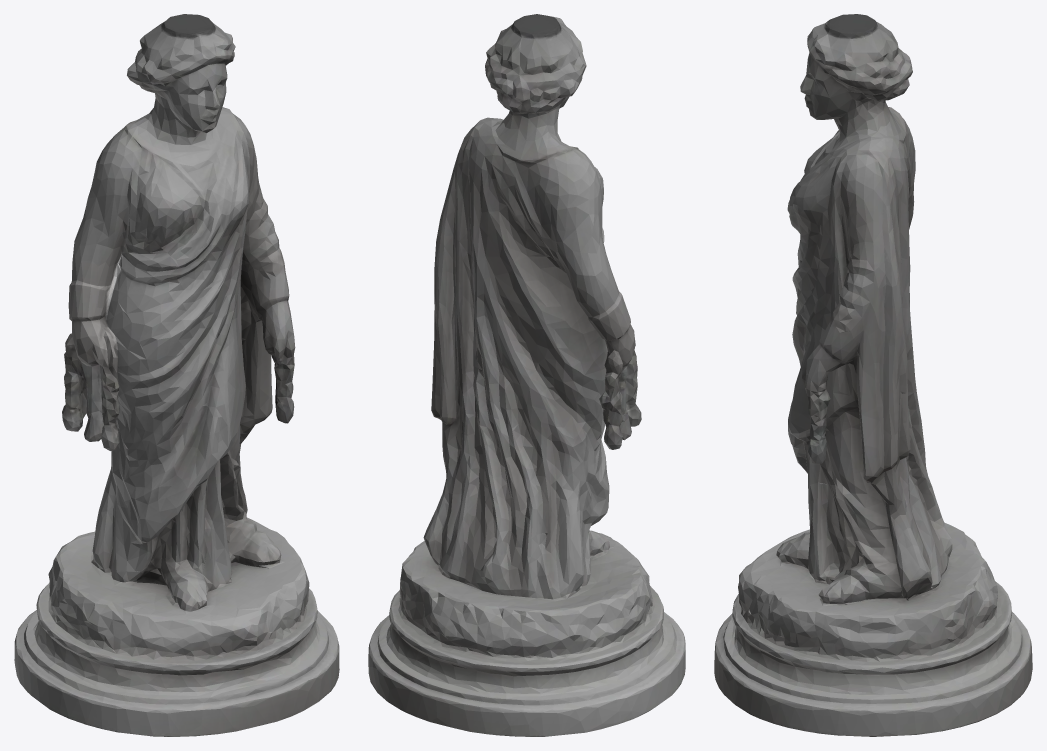
Rendered from dama-patriota.glb.
3 views of the same model, side by side, from view 1: azimuth 30°, elevation 25°; view 2: azimuth 150°, elevation 25°; view 3: azimuth 270°, elevation 25° (orthographic). The views are drawn at different scales.
Parts seen in each view (by area): view 1: geometry_0; view 2: geometry_0; view 3: geometry_0.
Part boxes in pixels (x1,y1,x2,y2): geometry_0: (14, 14, 339, 736); geometry_0: (368, 14, 685, 736); geometry_0: (714, 14, 1032, 736).
Size of the model in its own units: 0.4448 by 1 by 0.446.
1 material, 1 textured.
